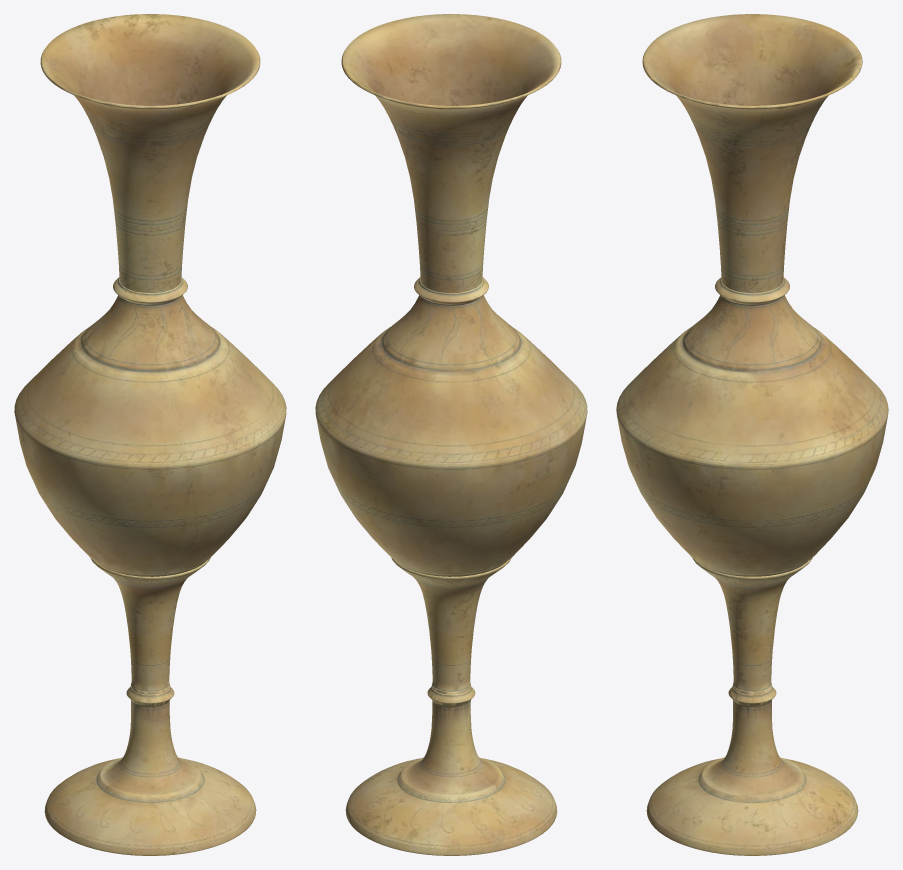
File: ph-brass-vase.glb
3 views of the same model, side by side, from view 1: azimuth 30°, elevation 25°; view 2: azimuth 150°, elevation 25°; view 3: azimuth 270°, elevation 25° (orthographic).
Visible parts, largest first — view 1: brass_vase_01; view 2: brass_vase_01; view 3: brass_vase_01.
Part boxes in pixels (bbox=[...]): brass_vase_01: bbox=[14, 14, 286, 855]; brass_vase_01: bbox=[315, 14, 587, 855]; brass_vase_01: bbox=[616, 14, 888, 855].
Size of the model in its own units: 0.2273 by 0.6925 by 0.2273.
1 material, 1 textured.
